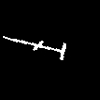double_crochet: (3, 36, 65, 59)
